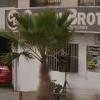Palm tree: (12, 7, 74, 90)
